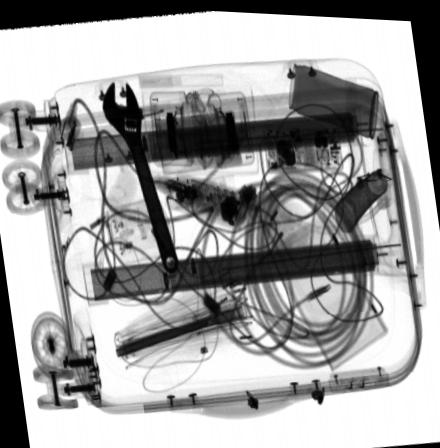Wrench: (101, 80, 178, 271)
